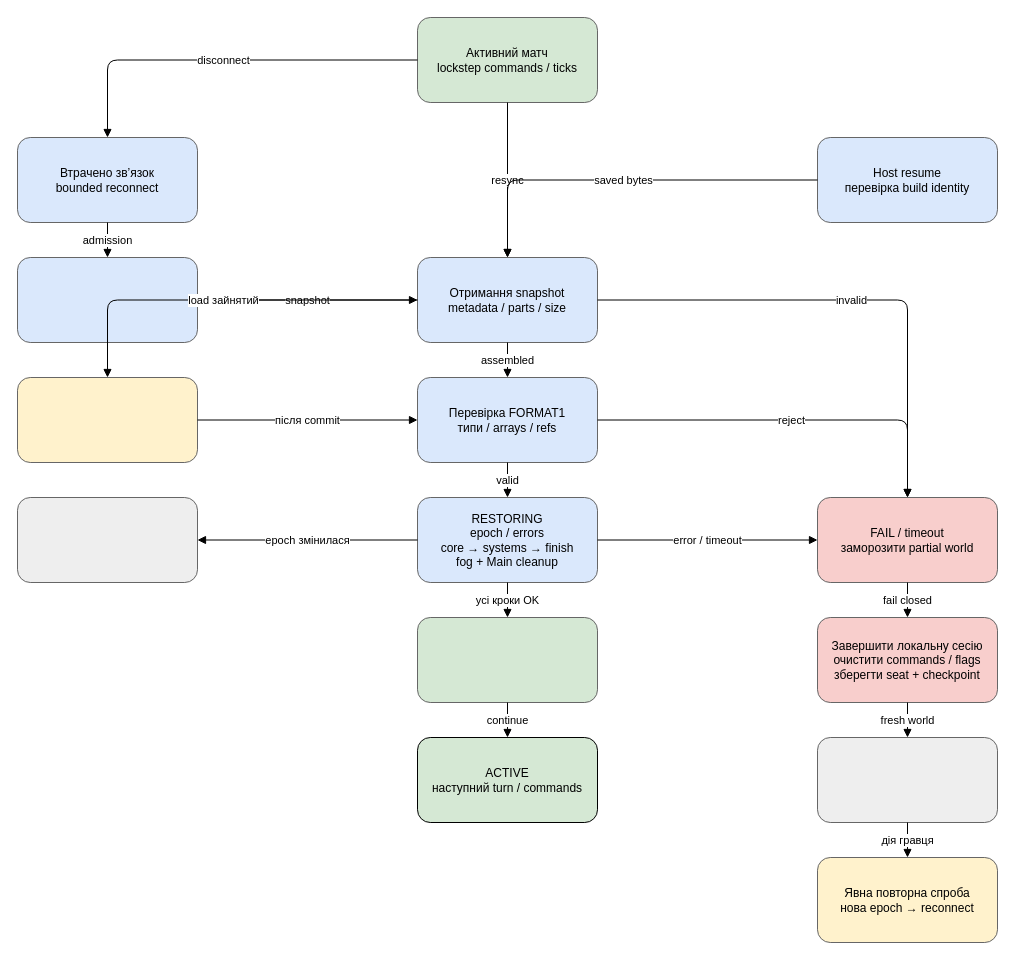
Some shapes in this 1015 by 960 pixel diagram are drawn without their labels. Each missing label, with the centre of its shape:
"COMMIT slot / turn / tick потім UI success" goes at (507,659).
"Leave/reset скасували load старий completion ігнорується" goes at (107,539).
"Seat підтверджено rejoining / очікування" goes at (107,299).
"Відбудувати меню діагностика; без auto retry" goes at (907,779).
"Новіший snapshot один newest pending" goes at (107,419).
